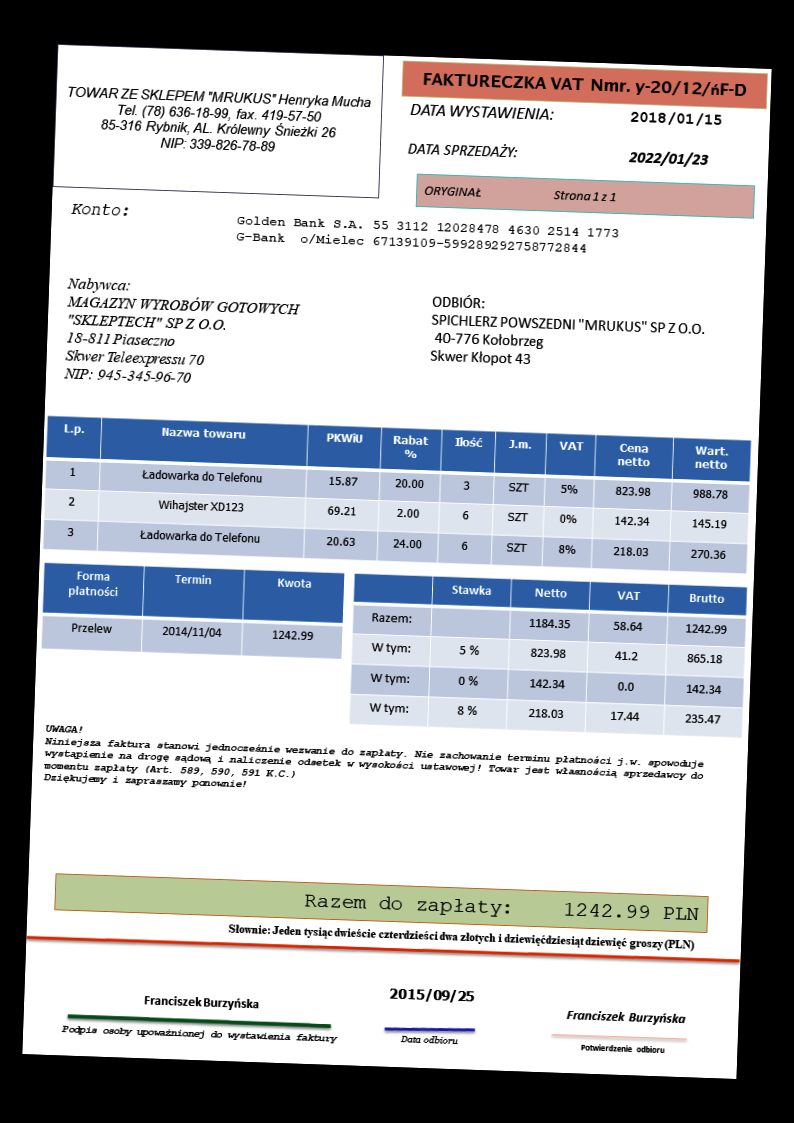Table: (42, 415, 752, 575), (348, 572, 749, 739), (40, 560, 344, 661)
TextBox: (41, 722, 707, 807), (62, 276, 302, 389), (63, 81, 374, 159), (428, 291, 706, 374), (235, 212, 621, 258), (302, 889, 699, 926), (227, 921, 695, 952), (419, 67, 747, 100), (60, 1022, 338, 1046), (421, 182, 618, 206), (408, 99, 556, 123), (564, 1008, 687, 1028), (405, 139, 520, 160), (141, 992, 260, 1012), (628, 109, 722, 129), (387, 985, 476, 1004), (626, 149, 712, 168), (578, 1041, 667, 1056), (69, 199, 130, 219), (398, 1032, 460, 1048)
